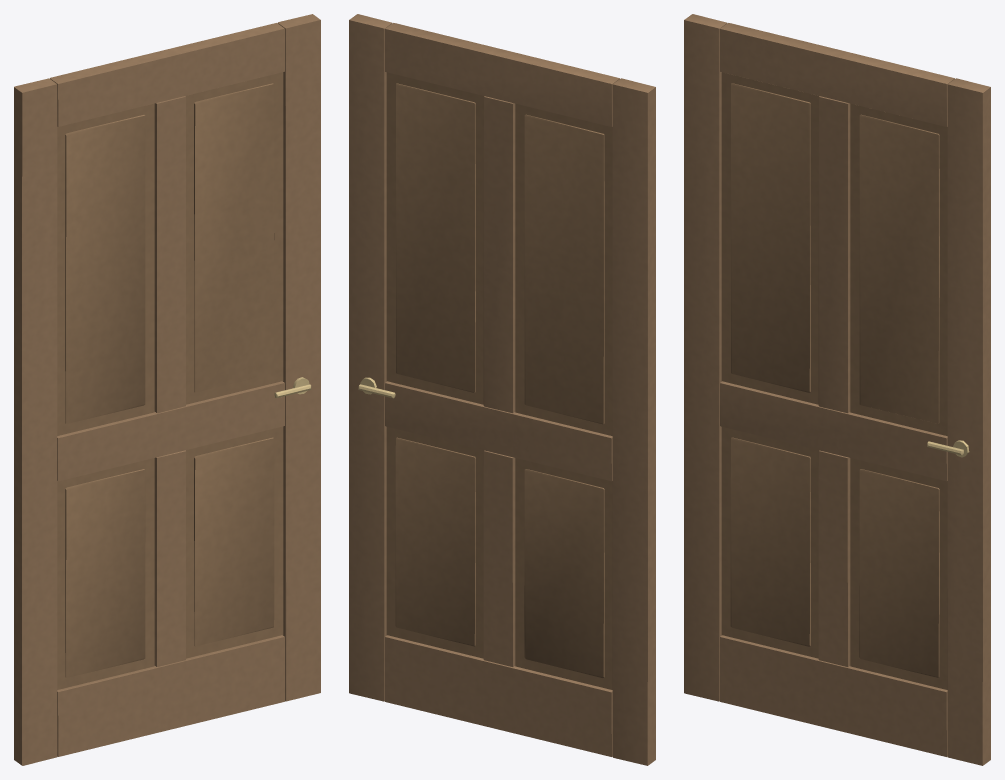
The model's file is SM_WoodDoor_LOD1.fbx.
The picture shows the model from 3 angles, left to right: view 1: azimuth 30°, elevation 25°; view 2: azimuth 150°, elevation 25°; view 3: azimuth 330°, elevation 25°; orthographic projection.
Visible parts, largest first — view 1: SM_WoodDoor_LOD1; view 2: SM_WoodDoor_LOD1; view 3: SM_WoodDoor_LOD1.
Part boxes in pixels (x1,y1,x2,y2): SM_WoodDoor_LOD1: (14, 14, 320, 765); SM_WoodDoor_LOD1: (349, 14, 655, 765); SM_WoodDoor_LOD1: (684, 14, 990, 765).
Bounding box in the file's own units: 0.9979 × 2.15 × 0.1172.
1 material, 1 textured.
